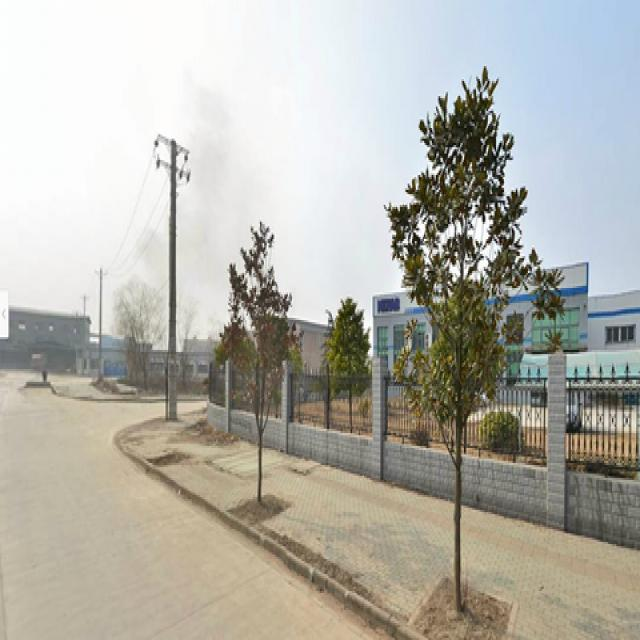magn: (391, 62, 558, 604)
